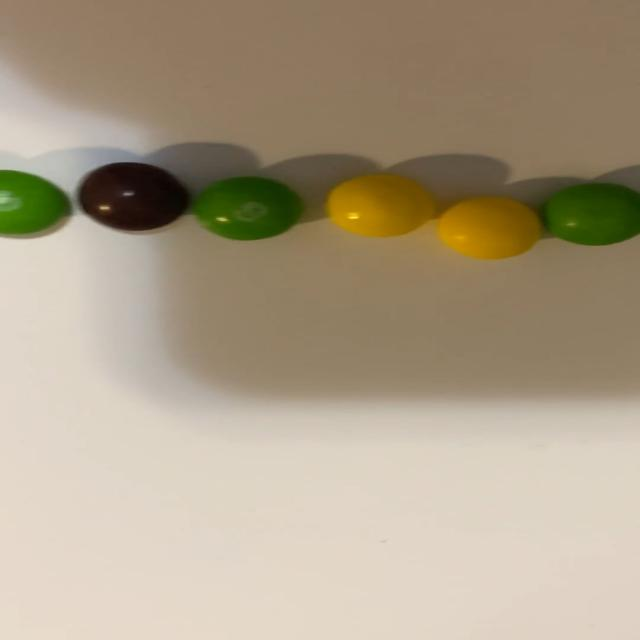smartie: (78, 162, 187, 230), (327, 174, 434, 237), (194, 176, 300, 239), (439, 197, 541, 259), (544, 183, 640, 245), (0, 170, 68, 235)
